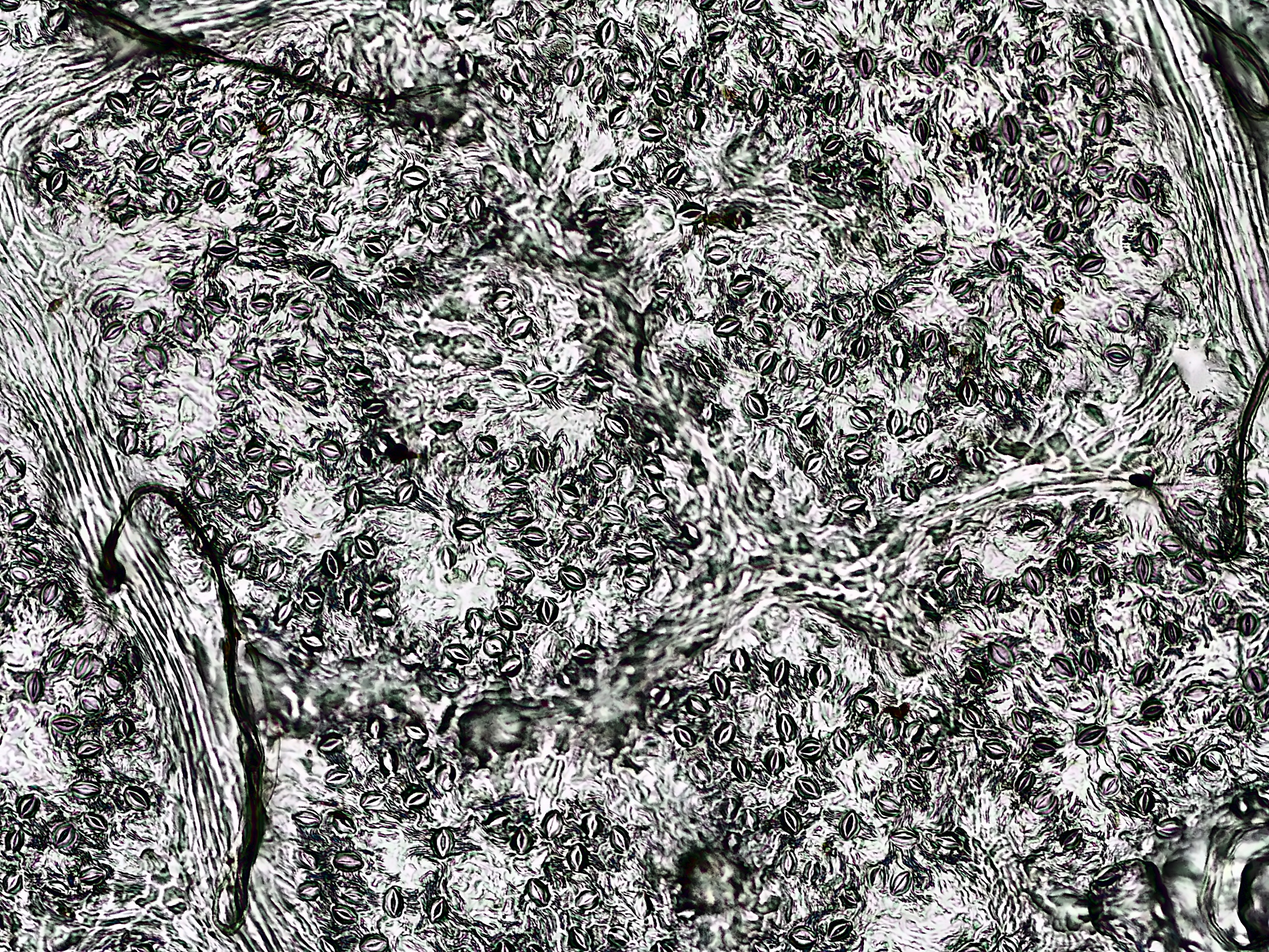stomata: (433, 668, 465, 694), (430, 827, 455, 859), (258, 106, 285, 135), (955, 376, 979, 408), (243, 491, 268, 521), (493, 17, 520, 44), (1021, 566, 1046, 595), (787, 925, 816, 950), (453, 518, 485, 540), (1242, 666, 1268, 693), (988, 642, 1015, 668), (400, 166, 429, 190), (638, 119, 667, 143), (1126, 174, 1150, 203), (535, 596, 559, 625), (1154, 817, 1187, 838), (833, 727, 854, 760), (525, 372, 558, 393), (854, 50, 877, 80), (529, 444, 552, 474), (562, 55, 584, 86), (596, 17, 618, 48), (965, 36, 987, 67), (333, 850, 364, 872), (204, 178, 230, 204), (1169, 743, 1196, 768), (123, 786, 150, 811), (332, 71, 353, 103), (252, 156, 276, 184), (312, 212, 340, 236), (526, 879, 550, 907), (625, 542, 655, 564), (511, 825, 533, 855), (69, 780, 102, 800), (914, 245, 945, 266), (853, 694, 879, 719), (559, 567, 586, 591), (494, 607, 521, 631), (796, 738, 824, 761), (822, 358, 845, 386), (769, 656, 789, 688), (563, 520, 595, 540), (246, 75, 275, 97), (187, 136, 216, 158), (322, 550, 344, 579), (1058, 547, 1079, 577), (1076, 726, 1106, 747), (584, 370, 614, 391), (504, 563, 534, 584), (542, 810, 563, 840), (228, 354, 261, 373), (604, 414, 630, 438), (143, 345, 167, 371), (1021, 519, 1048, 542), (457, 48, 477, 79), (1001, 115, 1021, 146), (675, 205, 706, 225), (838, 812, 860, 840), (875, 795, 903, 817), (780, 806, 802, 834), (588, 460, 616, 482), (444, 642, 472, 664), (116, 427, 138, 455), (981, 739, 1010, 760), (778, 357, 799, 386), (911, 408, 932, 437), (383, 888, 404, 917), (25, 672, 44, 704), (1133, 554, 1153, 584), (873, 290, 898, 314), (803, 453, 827, 478), (229, 544, 253, 569), (16, 794, 41, 818), (51, 714, 81, 734), (290, 59, 316, 82), (422, 201, 448, 224), (828, 919, 854, 942), (981, 579, 1004, 605), (744, 391, 767, 417), (138, 309, 161, 335), (713, 316, 740, 338), (685, 65, 706, 93), (922, 48, 943, 76), (1103, 345, 1131, 366), (1134, 787, 1155, 815), (300, 346, 328, 367), (325, 768, 353, 789), (8, 509, 36, 530), (147, 99, 176, 119), (710, 671, 730, 700), (887, 407, 907, 436), (609, 105, 633, 129), (1033, 790, 1057, 814), (924, 461, 948, 485), (991, 383, 1014, 408), (796, 776, 821, 799), (395, 480, 418, 505), (51, 823, 74, 848), (319, 160, 341, 186), (684, 104, 706, 130), (1159, 535, 1185, 557), (714, 721, 736, 747), (506, 316, 532, 338), (435, 763, 457, 789), (318, 732, 344, 754), (208, 241, 238, 260), (749, 87, 768, 117), (889, 828, 919, 847), (292, 809, 322, 828), (46, 168, 67, 195), (134, 153, 161, 174), (614, 70, 641, 91), (588, 76, 609, 103), (388, 267, 415, 288), (609, 825, 630, 852), (260, 237, 288, 257), (1093, 73, 1113, 101), (1089, 158, 1117, 178), (777, 713, 797, 741), (990, 243, 1008, 274), (651, 84, 675, 107), (753, 351, 777, 374), (849, 407, 872, 431), (693, 356, 716, 380), (354, 535, 378, 558), (332, 811, 356, 834), (191, 477, 214, 501), (2, 457, 25, 481), (344, 135, 373, 154), (838, 494, 867, 513), (890, 871, 912, 896), (809, 662, 831, 687), (862, 139, 884, 164), (581, 813, 603, 838), (263, 557, 285, 582), (530, 116, 551, 142), (1011, 708, 1032, 734), (729, 275, 755, 296), (361, 284, 382, 310), (331, 904, 357, 925), (317, 440, 343, 461), (345, 483, 362, 515), (1026, 40, 1046, 67), (1184, 684, 1211, 704), (1032, 737, 1059, 757), (1079, 647, 1099, 674), (704, 245, 731, 265), (506, 508, 536, 526), (344, 586, 364, 613), (168, 64, 196, 83), (1140, 229, 1159, 257), (765, 748, 784, 776), (622, 573, 650, 592), (567, 843, 586, 871), (79, 867, 107, 886), (962, 705, 985, 728), (1034, 83, 1056, 107), (1182, 564, 1206, 586), (1138, 598, 1160, 622), (1118, 755, 1140, 779), (249, 294, 273, 316), (686, 695, 710, 717), (372, 604, 396, 626), (611, 166, 636, 187), (756, 34, 777, 59), (1228, 704, 1249, 729), (731, 757, 752, 782), (1051, 657, 1076, 678), (911, 184, 932, 209), (176, 315, 197, 340), (569, 926, 590, 951), (404, 789, 429, 810), (308, 263, 334, 283), (823, 90, 843, 116), (1048, 151, 1068, 177), (1139, 699, 1165, 719), (360, 790, 386, 810), (269, 456, 295, 476), (360, 399, 387, 418), (178, 440, 197, 467), (106, 92, 129, 114), (662, 162, 684, 185), (777, 72, 800, 94), (1237, 612, 1260, 634), (1201, 750, 1224, 772), (1097, 773, 1120, 795), (608, 927, 631, 949), (105, 669, 127, 692), (105, 189, 129, 210), (706, 21, 730, 42), (1179, 499, 1207, 517), (821, 135, 845, 156), (348, 364, 372, 385), (294, 98, 314, 123), (1093, 111, 1113, 136), (1090, 499, 1110, 524), (1090, 563, 1110, 588), (1211, 591, 1231, 616), (1132, 661, 1152, 686), (730, 648, 750, 673), (919, 328, 939, 353), (845, 445, 870, 465), (522, 527, 547, 547), (77, 740, 102, 760), (1071, 42, 1097, 61), (465, 608, 484, 634), (633, 891, 652, 917), (379, 749, 398, 775), (41, 580, 60, 606), (132, 74, 161, 91), (780, 849, 797, 878), (808, 314, 826, 341), (202, 297, 229, 315), (484, 811, 511, 829), (117, 375, 144, 393), (1059, 828, 1081, 850), (761, 291, 783, 313), (272, 357, 294, 379), (58, 129, 81, 150), (533, 18, 556, 39), (792, 105, 813, 128), (880, 717, 901, 740), (558, 483, 581, 504), (675, 725, 696, 748), (297, 880, 320, 901), (47, 647, 68, 670), (363, 238, 387, 258), (512, 60, 532, 84), (851, 336, 871, 360), (645, 493, 669, 513), (466, 195, 485, 220), (1075, 193, 1094, 218), (1206, 450, 1225, 475), (170, 273, 195, 292), (5, 827, 24, 852), (428, 896, 446, 922), (74, 652, 92, 678), (1045, 220, 1066, 242), (903, 721, 924, 743), (749, 321, 771, 342), (681, 520, 702, 542), (341, 299, 362, 321), (483, 636, 505, 657), (244, 441, 266, 462), (103, 321, 125, 342), (659, 50, 682, 70), (1015, 771, 1035, 794), (937, 566, 960, 586), (949, 278, 972, 298), (84, 811, 107, 831), (600, 505, 627, 522), (809, 166, 833, 185), (288, 300, 312, 319), (572, 644, 596, 663), (415, 748, 434, 772), (1163, 620, 1181, 645), (126, 648, 144, 673), (1079, 255, 1105, 272), (840, 888, 861, 909), (832, 302, 853, 323), (672, 302, 693, 323), (255, 201, 277, 221), (797, 408, 817, 430), (719, 797, 739, 819), (453, 2, 476, 21), (370, 577, 393, 596), (298, 848, 317, 871), (575, 891, 599, 909), (300, 633, 324, 651), (276, 600, 294, 624), (503, 477, 528, 494), (440, 545, 457, 570), (1023, 290, 1044, 310), (904, 774, 925, 794), (900, 481, 921, 501), (475, 436, 496, 456), (303, 586, 324, 606), (2, 872, 22, 893), (800, 46, 819, 68), (405, 722, 427, 741), (1046, 322, 1062, 348), (299, 377, 325, 393), (164, 190, 182, 213), (1113, 308, 1131, 331), (1242, 480, 1265, 498), (1065, 605, 1083, 628), (891, 345, 909, 368), (21, 547, 44, 565), (937, 832, 962, 848), (491, 291, 512, 310), (503, 452, 522, 473), (500, 655, 521, 674), (692, 762, 711, 783), (643, 460, 665, 478), (8, 566, 30, 584), (113, 719, 135, 737), (914, 117, 928, 145), (178, 116, 201, 133), (218, 423, 241, 440), (804, 860, 820, 884), (742, 809, 758, 833), (216, 115, 236, 134), (917, 747, 937, 766), (353, 447, 372, 467), (81, 695, 101, 714), (496, 82, 514, 103), (857, 172, 878, 190), (698, 399, 715, 421), (367, 715, 384, 737), (216, 385, 238, 402), (967, 665, 986, 684), (367, 194, 388, 211), (1004, 165, 1021, 186), (1031, 188, 1047, 210), (868, 866, 884, 888), (46, 880, 68, 896), (274, 217, 295, 233), (1038, 126, 1058, 141), (973, 132, 984, 151)
